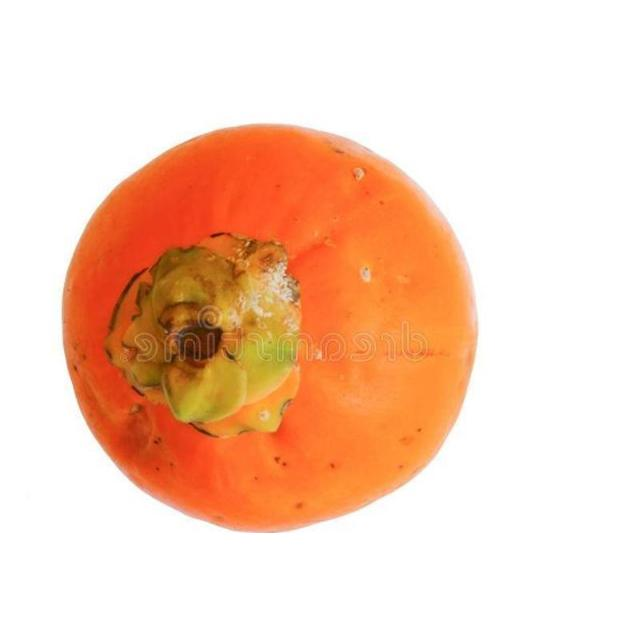good: (67, 129, 479, 533)
